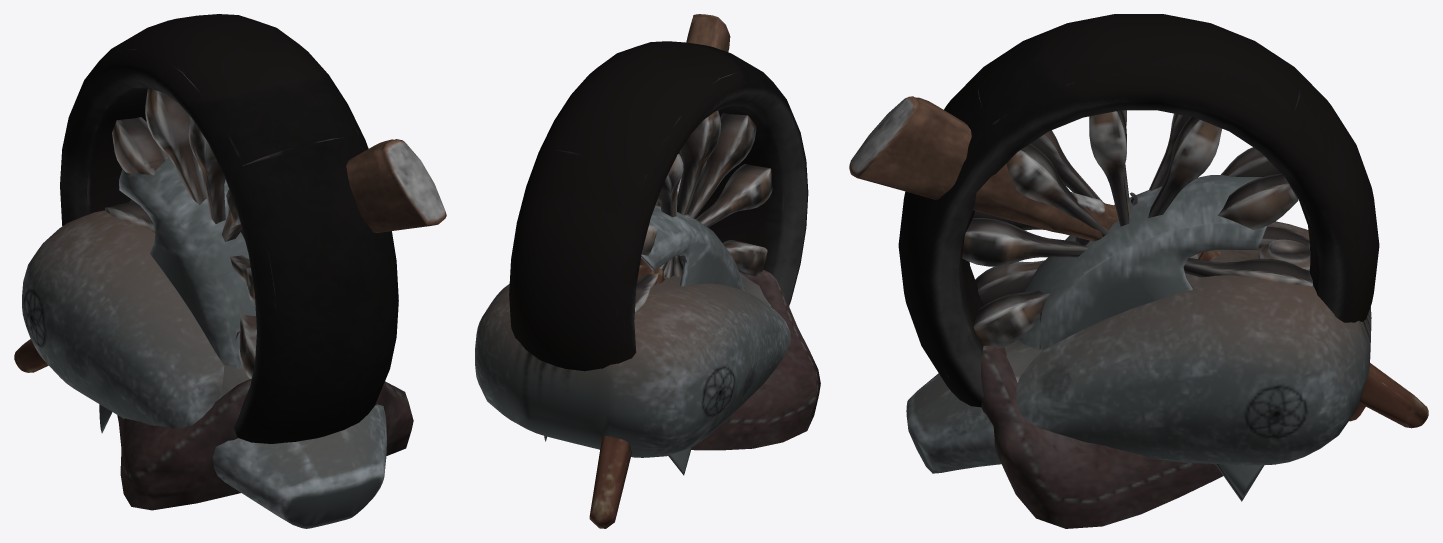
File: OldWest_Items.fbx
The picture shows the model from 3 angles, left to right: view 1: azimuth 30°, elevation 25°; view 2: azimuth 150°, elevation 25°; view 3: azimuth 270°, elevation 25°; orthographic projection. The views are drawn at different scales.
Visible parts, largest first — view 1: ow_WI_Tire, ow_WI_GasTank, ow_WI_FenderFront, ow_WI_Seat, ow_WI_Holster, ow_WI_FenderRear; view 2: ow_WI_Tire, ow_WI_GasTank, ow_WI_Seat, ow_WI_FenderFront, ow_WI_Holster, ow_WI_FenderRear; view 3: ow_WI_Tire, ow_WI_GasTank, ow_WI_FenderFront, ow_WI_Seat, ow_WI_Holster, ow_WI_FenderRear.
Boxes of the visible parts, x1=… form: ow_WI_Tire: x1=60, y1=14, x2=398, y2=443; ow_WI_GasTank: x1=22, y1=200, x2=386, y2=528; ow_WI_FenderFront: x1=119, y1=156, x2=255, y2=368; ow_WI_Seat: x1=117, y1=378, x2=413, y2=510; ow_WI_Holster: x1=14, y1=139, x2=446, y2=372; ow_WI_FenderRear: x1=99, y1=331, x2=249, y2=433; ow_WI_Tire: x1=509, y1=41, x2=808, y2=371; ow_WI_GasTank: x1=475, y1=275, x2=790, y2=457; ow_WI_Seat: x1=691, y1=270, x2=820, y2=450; ow_WI_FenderFront: x1=641, y1=205, x2=744, y2=291; ow_WI_Holster: x1=589, y1=14, x2=730, y2=528; ow_WI_FenderRear: x1=544, y1=273, x2=771, y2=475; ow_WI_Tire: x1=898, y1=14, x2=1379, y2=407; ow_WI_GasTank: x1=906, y1=221, x2=1371, y2=473; ow_WI_FenderFront: x1=1018, y1=175, x2=1267, y2=350; ow_WI_Seat: x1=981, y1=345, x2=1223, y2=528; ow_WI_Holster: x1=849, y1=96, x2=1428, y2=428; ow_WI_FenderRear: x1=1004, y1=312, x2=1263, y2=501.
Size of the model in its own units: 4.69 by 6.74 by 8.17.
